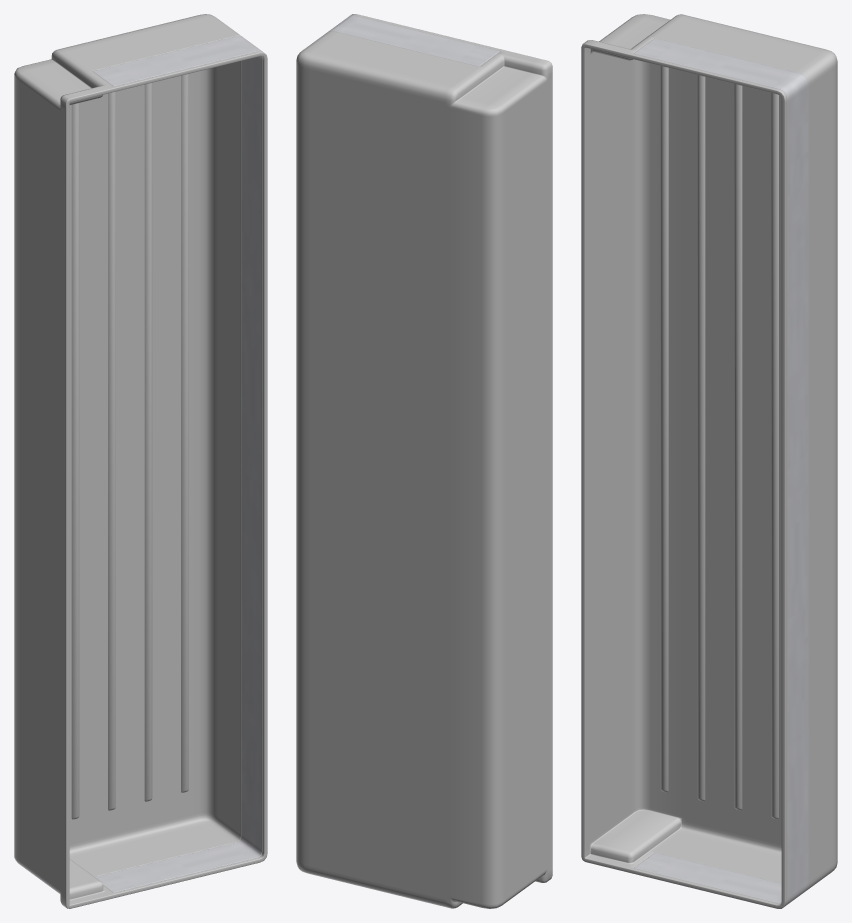
The model's file is SM_Fridge_Door_Tray_02.obj.
The picture shows the model from 3 angles, left to right: view 1: azimuth 30°, elevation 25°; view 2: azimuth 150°, elevation 25°; view 3: azimuth 330°, elevation 25°; orthographic projection.
Visible parts, largest first — view 1: SM_Fridge_Door_Tray_02; view 2: SM_Fridge_Door_Tray_02; view 3: SM_Fridge_Door_Tray_02.
Boxes of the visible parts, left/top/right/bottom form: SM_Fridge_Door_Tray_02: left=14, top=14, right=267, bottom=908; SM_Fridge_Door_Tray_02: left=296, top=14, right=552, bottom=908; SM_Fridge_Door_Tray_02: left=581, top=14, right=837, bottom=908.
Bounding box in the file's own units: 0.11 × 0.422 × 0.0538.
